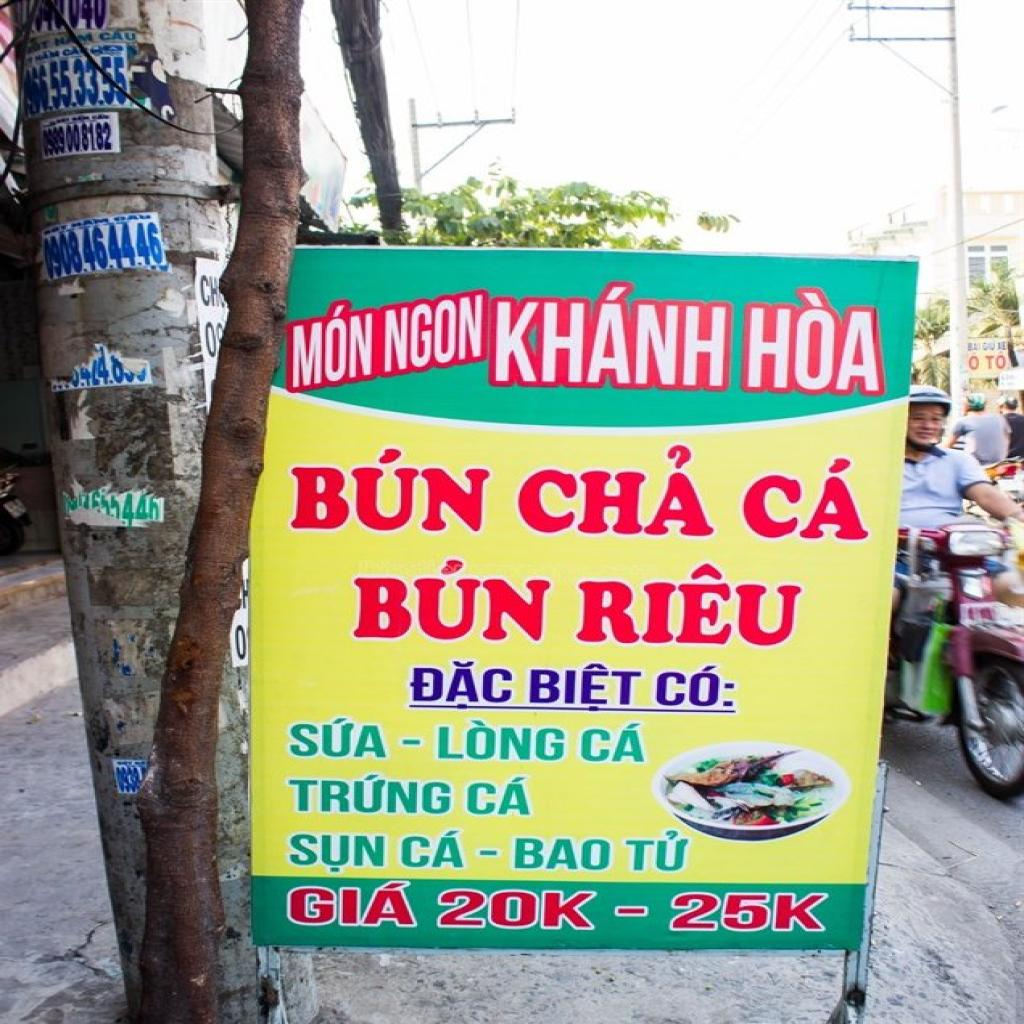text: (483, 275, 739, 395), (568, 557, 808, 653), (510, 440, 724, 542), (282, 443, 497, 539), (351, 556, 557, 648), (737, 282, 892, 400), (736, 451, 881, 544), (432, 884, 656, 934), (382, 286, 490, 380), (285, 292, 382, 396), (38, 219, 168, 286), (284, 772, 458, 818), (282, 877, 425, 930), (663, 890, 831, 934), (278, 714, 424, 762), (433, 716, 573, 764), (522, 662, 646, 714), (402, 657, 517, 712), (44, 53, 130, 113), (394, 828, 504, 872), (285, 828, 390, 874), (648, 661, 740, 712), (512, 833, 613, 874), (576, 716, 648, 766), (623, 826, 692, 876), (460, 775, 538, 818), (40, 120, 116, 160), (90, 345, 116, 388), (198, 272, 225, 310), (200, 320, 222, 361), (114, 767, 140, 795), (232, 622, 249, 664), (984, 350, 1008, 372), (96, 31, 138, 43), (32, 50, 61, 64), (966, 352, 982, 372), (963, 339, 982, 354), (980, 340, 996, 352), (996, 341, 1010, 351)
